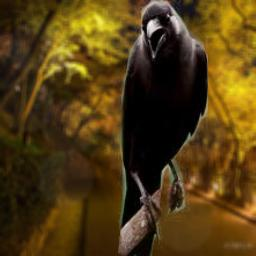Crow: (118, 0, 208, 256)
